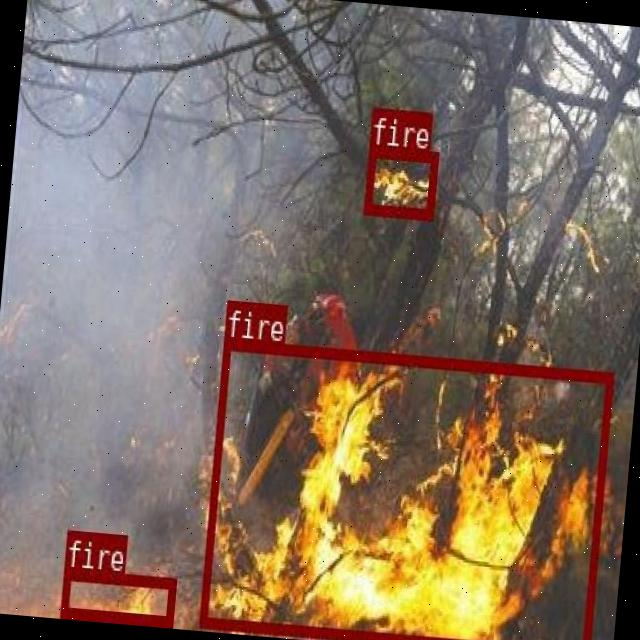fire: (199, 335, 612, 640), (59, 568, 175, 626), (362, 146, 438, 218)
